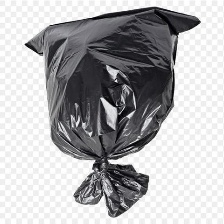plastic_bag: (20, 5, 206, 219)
